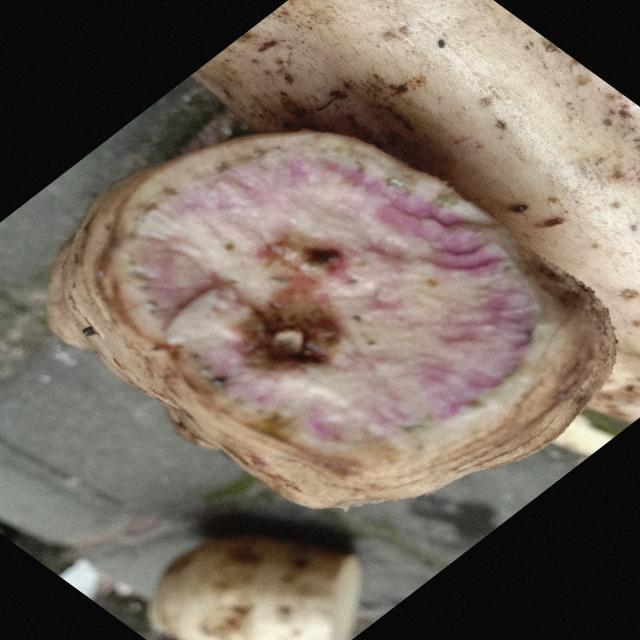Sick Sweet Potato_Tuber Rot: (122, 149, 540, 450)
